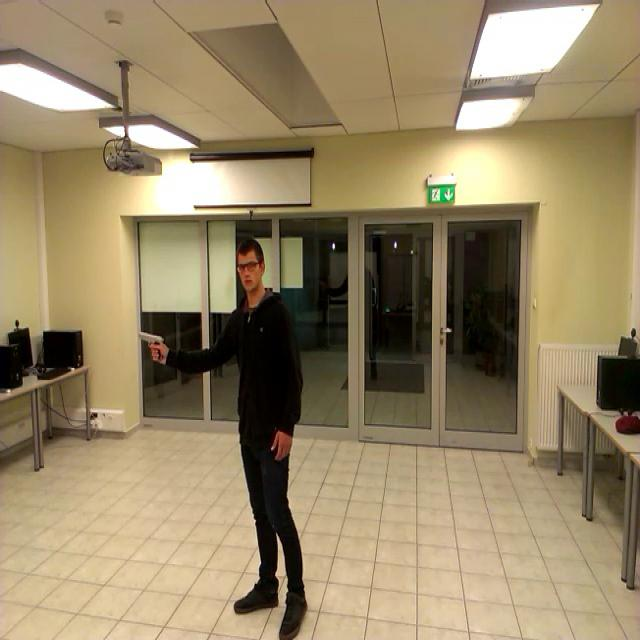handgun: (136, 324, 169, 366)
